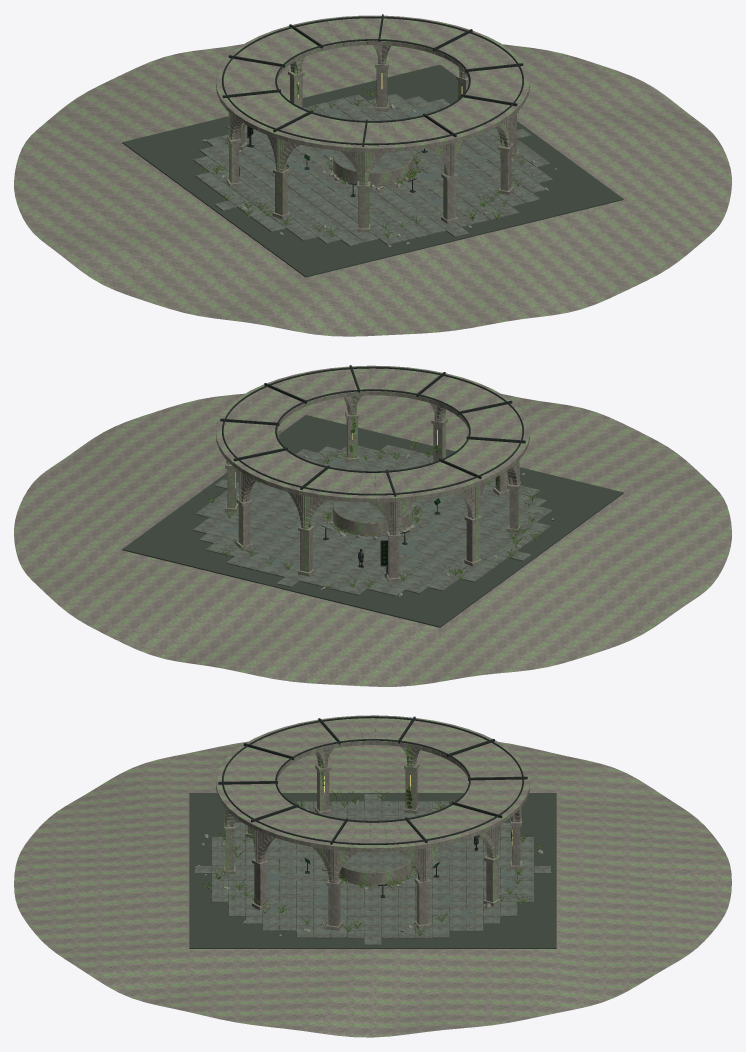
File: observatory-r06.glb
3 renders of one model, top to bottom at view 1: azimuth 30°, elevation 25°; view 2: azimuth 150°, elevation 25°; view 3: azimuth 270°, elevation 25°, orthographic.
Visible parts, largest first — view 1: ALARM_R05_Gozlemevi_Dis_Arazisi, ALARM_R05_Derzli_Tas_Doseme, ALARM_R05_Acik_Halkali_Cati, ALARM_R05_Doseme_Altligi, ALARM_R05_Kemerler_ve_Kolonlar, ALARM_R05_Catinin_Metal_Nervurleri, ALARM_ILK_Kaide_130cm, ALARM_R05_Egreltiler_ve_Sarmasiklar, ALARM_R05_Yagmur_Suyu; view 2: ALARM_R05_Gozlemevi_Dis_Arazisi, ALARM_R05_Derzli_Tas_Doseme, ALARM_R05_Acik_Halkali_Cati, ALARM_R05_Doseme_Altligi, ALARM_R05_Kemerler_ve_Kolonlar, ALARM_R05_Catinin_Metal_Nervurleri, ALARM_ILK_Kaide_130cm, ALARM_R05_Egreltiler_ve_Sarmasiklar, ALARM_R05_Yagmur_Suyu, ALARM_R05_Bitki_Saplari; view 3: ALARM_R05_Gozlemevi_Dis_Arazisi, ALARM_R05_Derzli_Tas_Doseme, ALARM_R05_Acik_Halkali_Cati, ALARM_R05_Doseme_Altligi, ALARM_R05_Kemerler_ve_Kolonlar, ALARM_R05_Catinin_Metal_Nervurleri, ALARM_ILK_Kaide_130cm, ALARM_R05_Egreltiler_ve_Sarmasiklar, ALARM_R05_Yagmur_Suyu.
Part boxes in pixels (x1=…): ALARM_R05_Gozlemevi_Dis_Arazisi: x1=14, y1=44, x2=731, y2=336; ALARM_R05_Derzli_Tas_Doseme: x1=193, y1=93, x2=552, y2=246; ALARM_R05_Acik_Halkali_Cati: x1=216, y1=15, x2=529, y2=152; ALARM_R05_Doseme_Altligi: x1=122, y1=64, x2=623, y2=277; ALARM_R05_Kemerler_ve_Kolonlar: x1=226, y1=19, x2=519, y2=232; ALARM_R05_Catinin_Metal_Nervurleri: x1=222, y1=14, x2=523, y2=146; ALARM_ILK_Kaide_130cm: x1=333, y1=150, x2=412, y2=186; ALARM_R05_Egreltiler_ve_Sarmasiklar: x1=198, y1=68, x2=526, y2=237; ALARM_R05_Yagmur_Suyu: x1=254, y1=109, x2=512, y2=204; ALARM_R05_Gozlemevi_Dis_Arazisi: x1=14, y1=393, x2=731, y2=686; ALARM_R05_Derzli_Tas_Doseme: x1=193, y1=445, x2=552, y2=596; ALARM_R05_Acik_Halkali_Cati: x1=216, y1=365, x2=529, y2=502; ALARM_R05_Doseme_Altligi: x1=122, y1=415, x2=623, y2=627; ALARM_R05_Kemerler_ve_Kolonlar: x1=224, y1=370, x2=521, y2=582; ALARM_R05_Catinin_Metal_Nervurleri: x1=220, y1=365, x2=525, y2=496; ALARM_ILK_Kaide_130cm: x1=333, y1=500, x2=412, y2=536; ALARM_R05_Egreltiler_ve_Sarmasiklar: x1=205, y1=414, x2=538, y2=588; ALARM_R05_Yagmur_Suyu: x1=223, y1=460, x2=448, y2=566; ALARM_R05_Bitki_Saplari: x1=204, y1=422, x2=539, y2=589; ALARM_R05_Gozlemevi_Dis_Arazisi: x1=14, y1=741, x2=731, y2=1037; ALARM_R05_Derzli_Tas_Doseme: x1=195, y1=794, x2=551, y2=945; ALARM_R05_Acik_Halkali_Cati: x1=216, y1=715, x2=529, y2=852; ALARM_R05_Doseme_Altligi: x1=189, y1=793, x2=556, y2=948; ALARM_R05_Kemerler_ve_Kolonlar: x1=223, y1=721, x2=522, y2=930; ALARM_R05_Catinin_Metal_Nervurleri: x1=218, y1=716, x2=527, y2=845; ALARM_ILK_Kaide_130cm: x1=339, y1=851, x2=412, y2=885; ALARM_R05_Egreltiler_ve_Sarmasiklar: x1=201, y1=748, x2=543, y2=935; ALARM_R05_Yagmur_Suyu: x1=266, y1=852, x2=515, y2=919.
Bounding box in the file's own units: 62.6 × 10.23 × 62.6.
21 materials, 8 textured.
